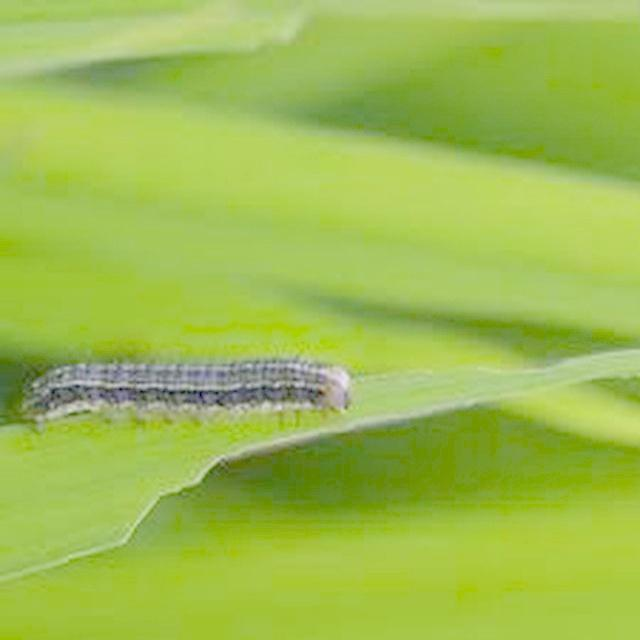gusano_cogollero: (19, 355, 352, 432)
